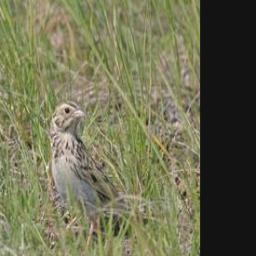Sparrow: (48, 97, 152, 256)
